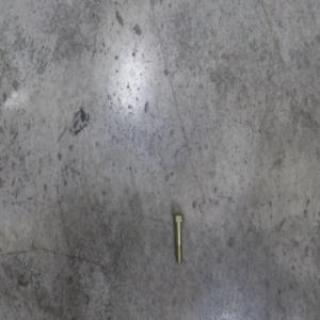Bolttrack_idkeyframe: (172, 212, 184, 265)
